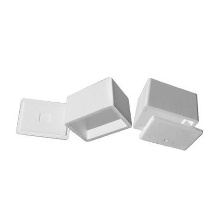foam_box: (132, 75, 205, 155), (61, 74, 131, 145), (12, 94, 74, 144)
